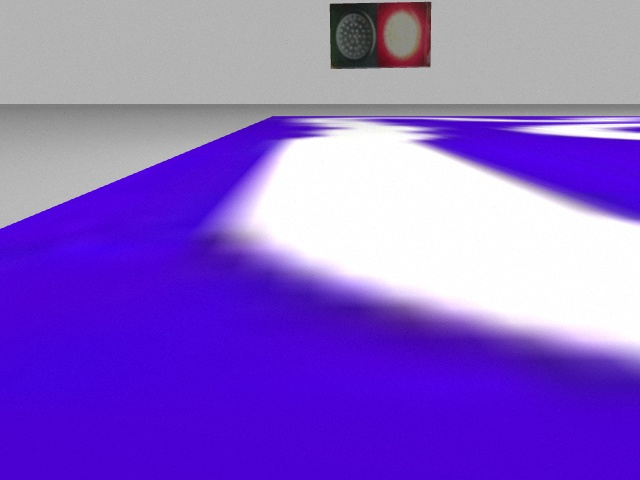red: (379, 2, 430, 67)
